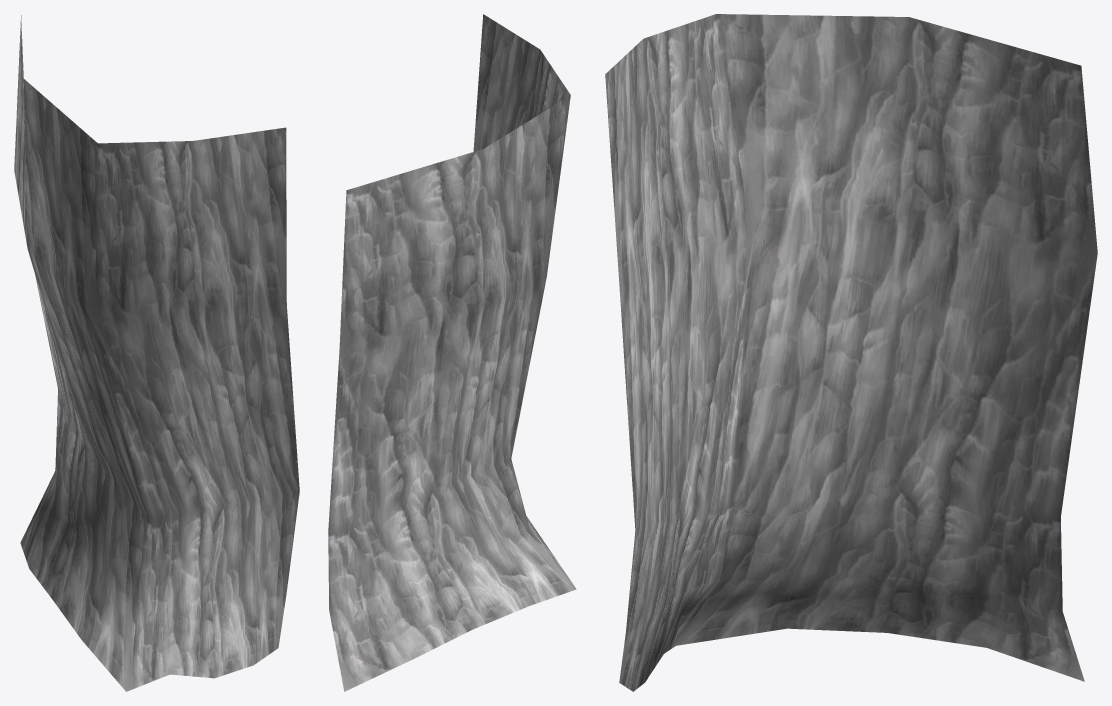
The model's file is SWORDLIGHT20_PS-AREA03_210.fbx.
3 renders of one model, left to right at view 1: azimuth 30°, elevation 25°; view 2: azimuth 150°, elevation 25°; view 3: azimuth 270°, elevation 25°, orthographic. The views are drawn at different scales.
Parts seen in each view (by area): view 1: SWORDLIGHT20_PS-AREA03_210; view 2: SWORDLIGHT20_PS-AREA03_210; view 3: SWORDLIGHT20_PS-AREA03_210.
Part boxes in pixels (box(x1,y1,x2,y2)): SWORDLIGHT20_PS-AREA03_210: box(14, 15, 299, 691); SWORDLIGHT20_PS-AREA03_210: box(328, 14, 576, 691); SWORDLIGHT20_PS-AREA03_210: box(605, 14, 1097, 691).
Size of the model in its own units: 46350 by 147218 by 101913.
1 material, 1 textured.
